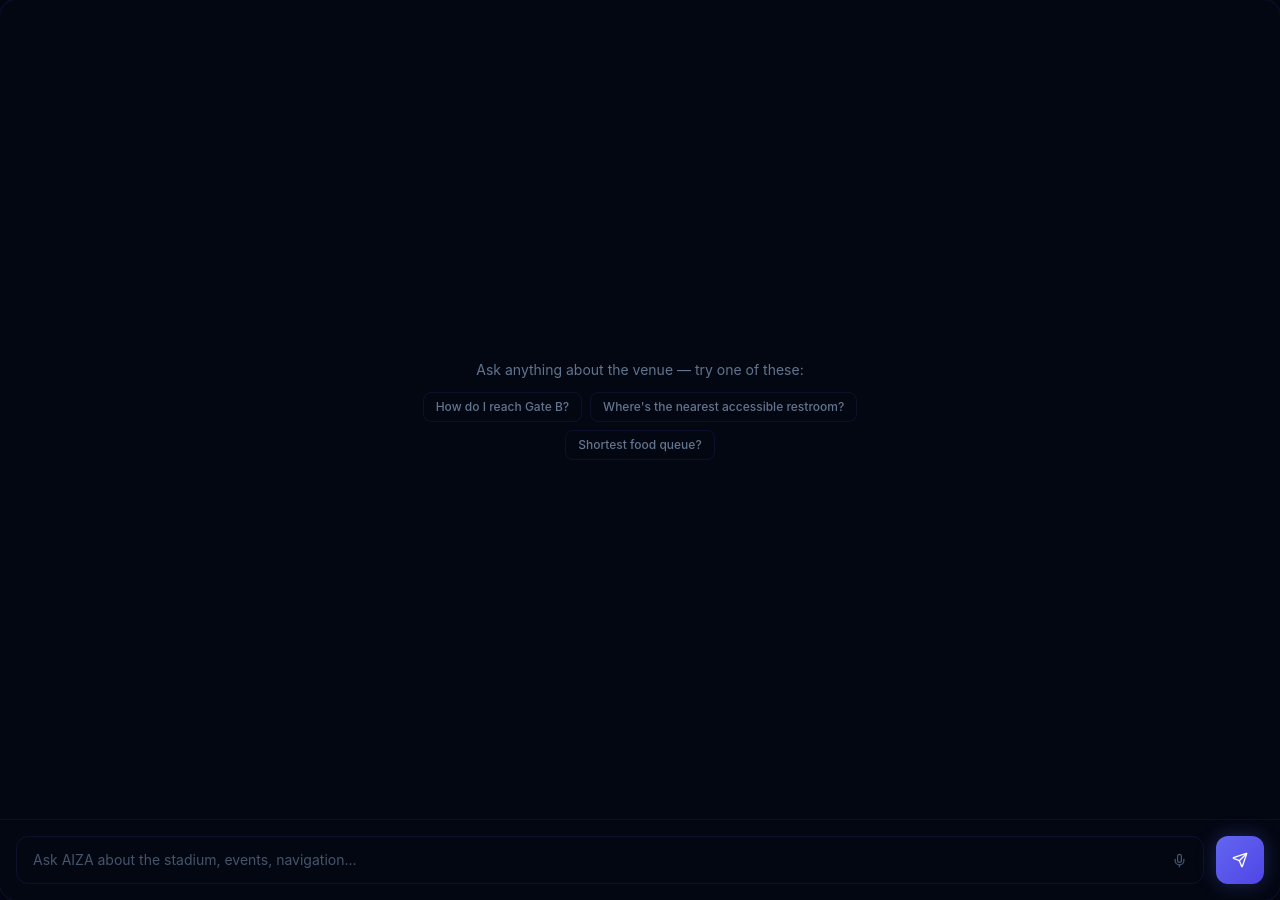
Scenario: ChatWindow › disables the send button while a request is in flight and re-enables after
The width and height of the screenshot is (1280, 900).
Type "Nearest restroom?" into the field named "ask the stadium assistant" at (598, 860), box [33, 838, 1164, 882]
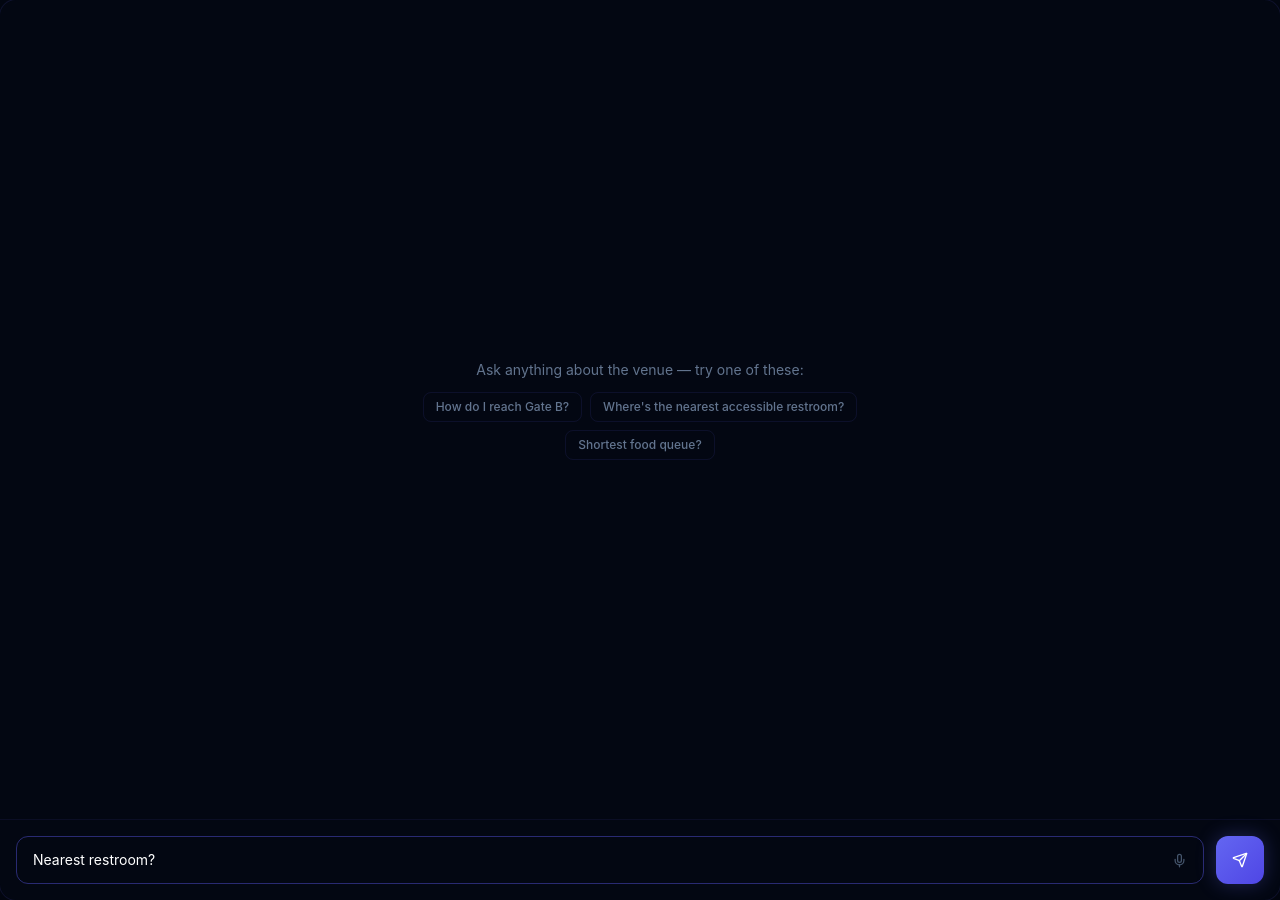
Click the button named "send message" at (1240, 860), box [1216, 836, 1264, 884]
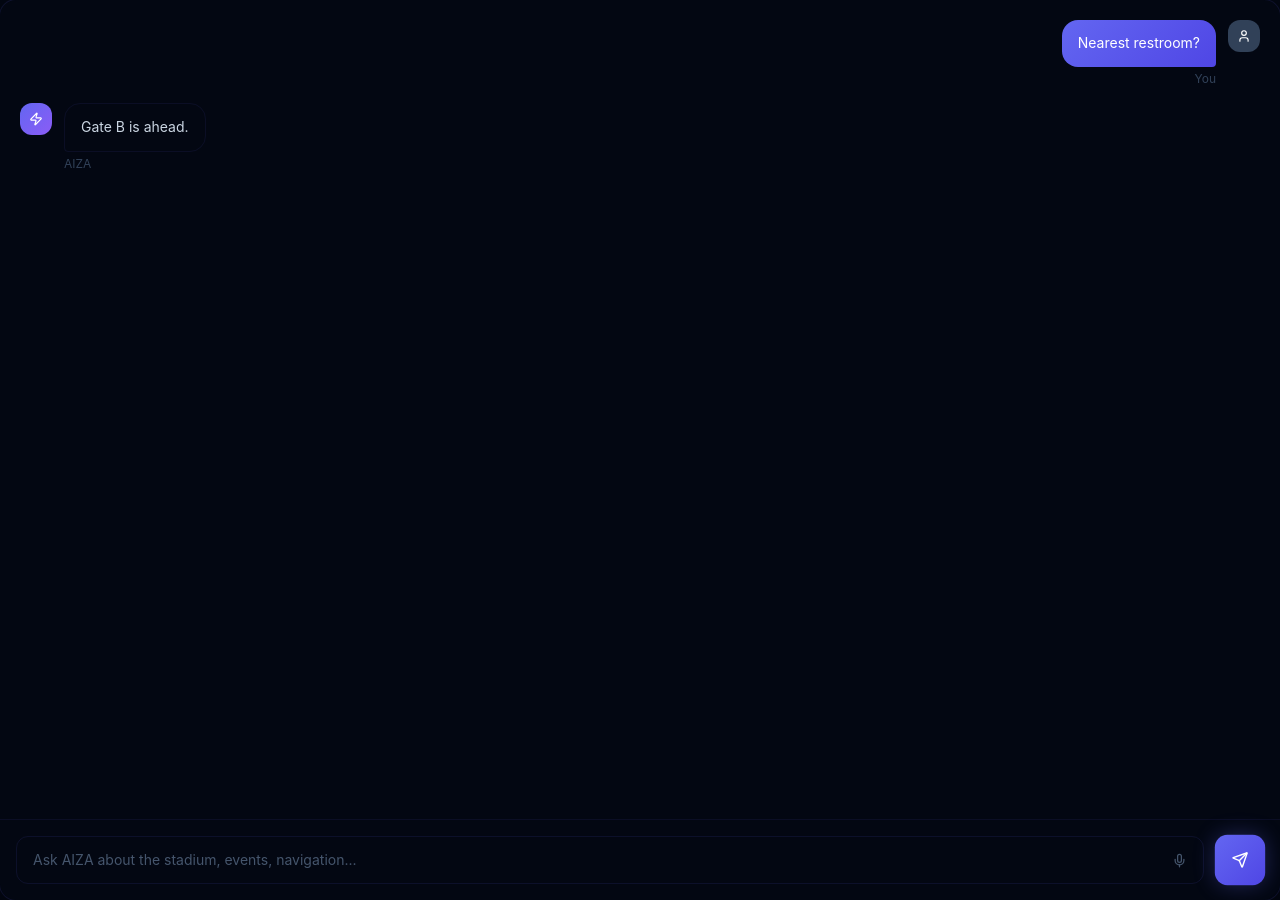
Expected: the text "Gate B is ahead." is shown, [64, 103, 206, 152]
